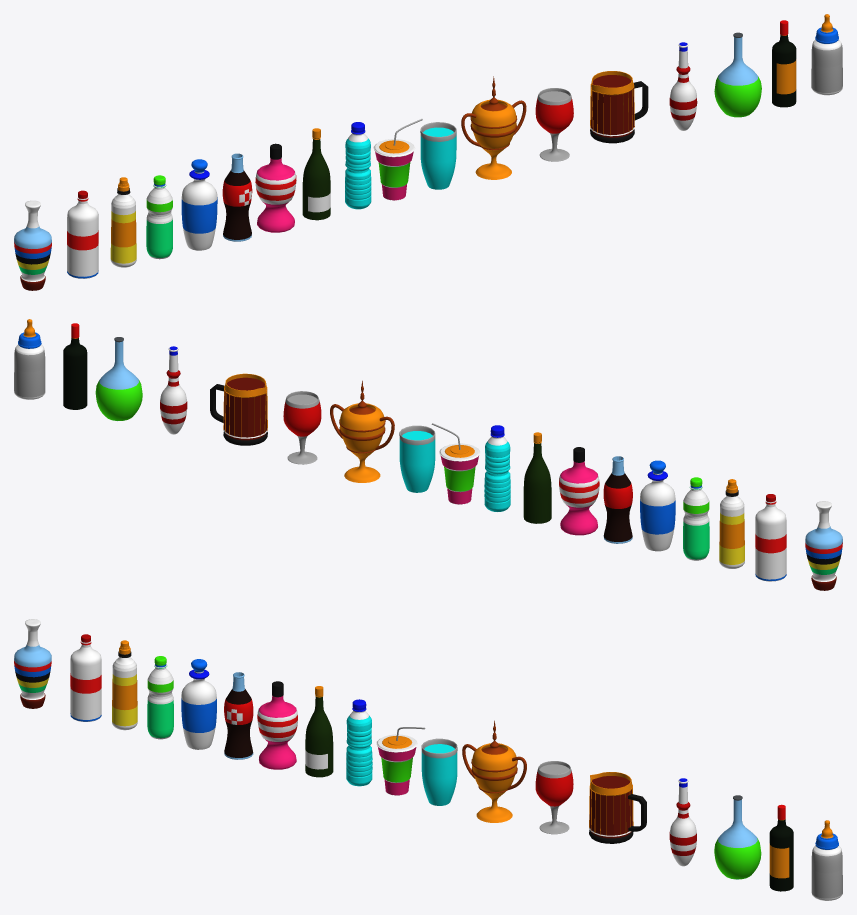
Rendered from Bottles New 18 picecs.FBX.
The picture shows the model from 3 angles, top to bottom: view 1: azimuth 30°, elevation 25°; view 2: azimuth 150°, elevation 25°; view 3: azimuth 330°, elevation 25°; orthographic projection.
Parts seen in each view (by area): view 1: Jug, Cup, Bottle Blue, Cream Bottle, Bottle Red, Chemical Bottle, Prop Bottle, water glass, Feeder, Water Bottle, Cola Bottle, Bottle Yellow (+6 smaller); view 2: Jug, Cup, Cream Bottle, Bottle Blue, Bottle Red, Chemical Bottle, Prop Bottle, water glass, Feeder, Water Bottle, Cola Bottle, Bottle Yellow (+6 smaller); view 3: Jug, Cup, Cream Bottle, Bottle Blue, Bottle Red, Chemical Bottle, Prop Bottle, water glass, Feeder, Water Bottle, Cola Bottle, Bottle Yellow (+6 smaller).
Boxes of the visible parts, x1=… form: Jug: x1=590, y1=71, x2=648, y2=143; Cup: x1=461, y1=76, x2=526, y2=179; Bottle Blue: x1=181, y1=159, x2=217, y2=250; Cream Bottle: x1=255, y1=143, x2=296, y2=232; Bottle Red: x1=67, y1=190, x2=98, y2=278; Chemical Bottle: x1=714, y1=32, x2=761, y2=117; Prop Bottle: x1=14, y1=200, x2=51, y2=290; water glass: x1=420, y1=122, x2=456, y2=189; Feeder: x1=811, y1=14, x2=842, y2=95; Water Bottle: x1=345, y1=122, x2=371, y2=209; Cola Bottle: x1=222, y1=153, x2=252, y2=241; Bottle Yellow: x1=110, y1=177, x2=136, y2=267; Jug: x1=210, y1=373, x2=267, y2=445; Cup: x1=330, y1=380, x2=394, y2=482; Cream Bottle: x1=559, y1=447, x2=599, y2=535; Bottle Blue: x1=640, y1=460, x2=675, y2=551; Bottle Red: x1=755, y1=494, x2=786, y2=581; Chemical Bottle: x1=95, y1=337, x2=142, y2=421; Prop Bottle: x1=805, y1=501, x2=842, y2=590; water glass: x1=399, y1=425, x2=435, y2=492; Feeder: x1=14, y1=319, x2=45, y2=399; Water Bottle: x1=484, y1=425, x2=510, y2=511; Cola Bottle: x1=603, y1=456, x2=632, y2=543; Bottle Yellow: x1=719, y1=479, x2=744, y2=568; Jug: x1=589, y1=772, x2=646, y2=843; Cup: x1=462, y1=720, x2=526, y2=822; Cream Bottle: x1=257, y1=681, x2=297, y2=769; Bottle Blue: x1=181, y1=659, x2=216, y2=749; Bottle Red: x1=70, y1=634, x2=101, y2=721; Chemical Bottle: x1=714, y1=795, x2=761, y2=879; Prop Bottle: x1=14, y1=619, x2=51, y2=708; water glass: x1=421, y1=738, x2=457, y2=805; Feeder: x1=811, y1=820, x2=842, y2=900; Water Bottle: x1=346, y1=699, x2=372, y2=786; Cola Bottle: x1=224, y1=672, x2=253, y2=759; Bottle Yellow: x1=112, y1=640, x2=137, y2=730.
Bounding box in the file's own units: 68.91 × 7.97 × 3.46.
26 materials, 1 textured.
